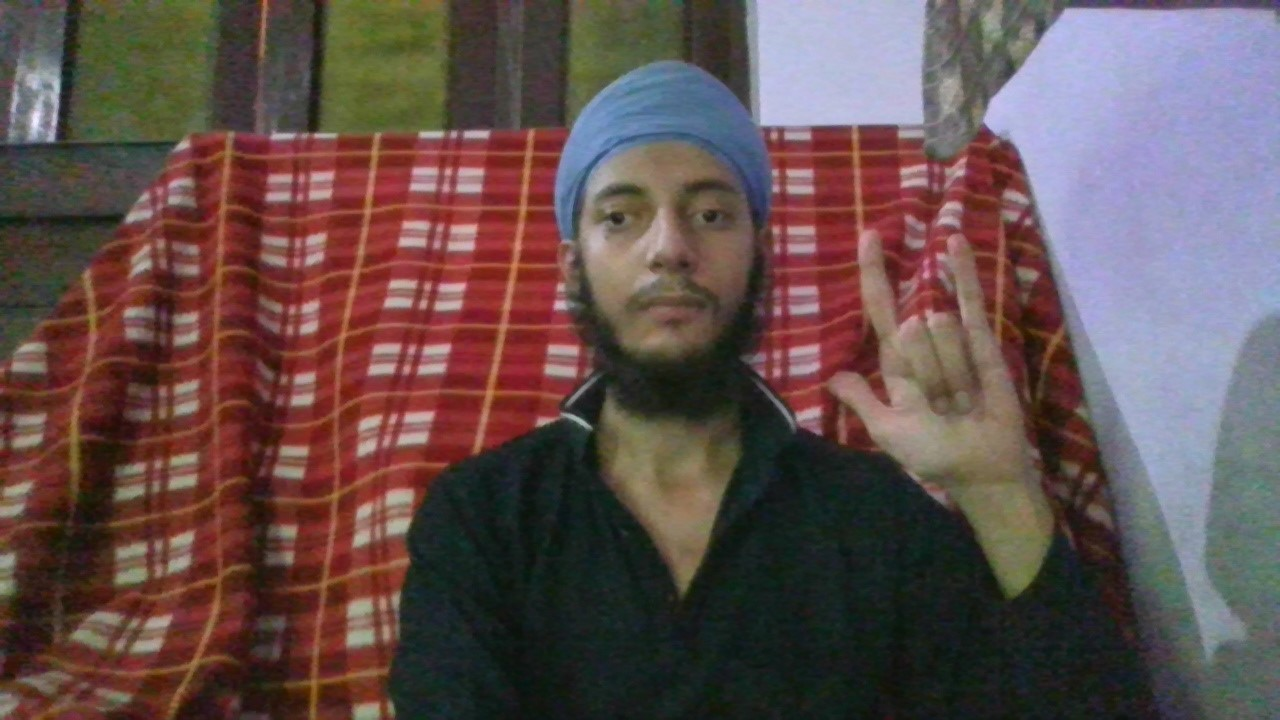I Love You: (828, 225, 1029, 489)
